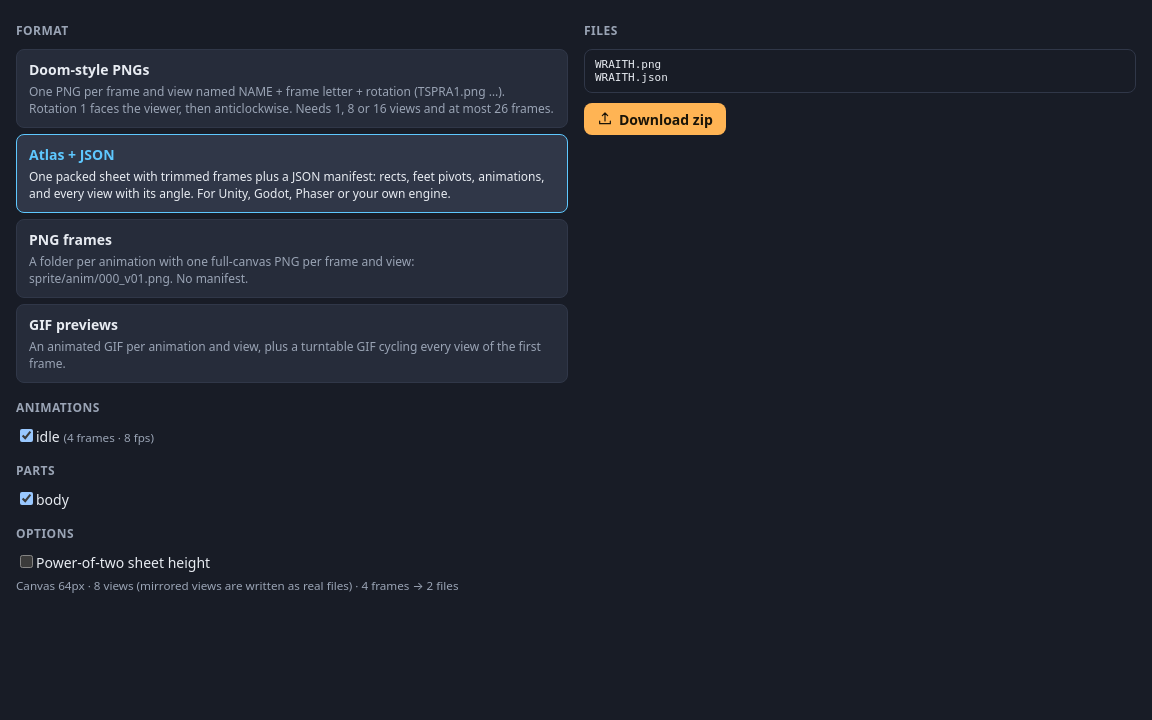
Test case: the Export tab › names the format it cannot do, when that one is picked
Click the button with class "export__format" that starts with "Doom-style PNGs".
click(292, 88)  # box [16,49,568,128]
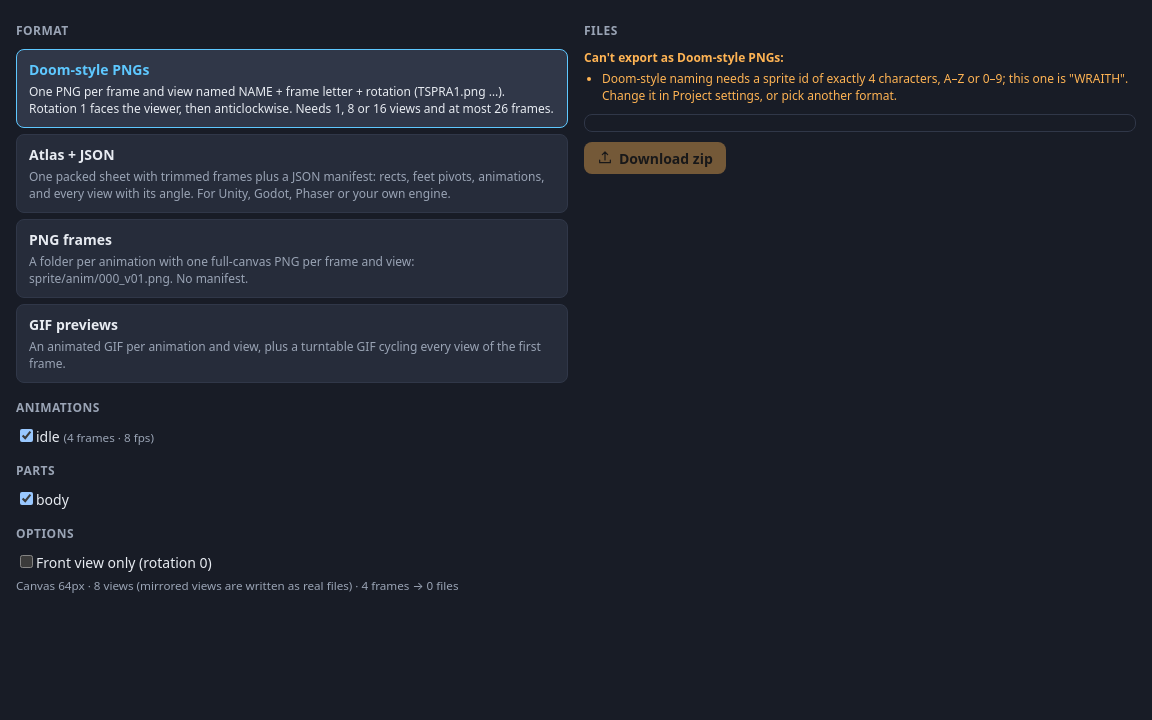
Expected: the text "Can't export as Doom-style PNGs:" is shown, [584,49,784,66]
